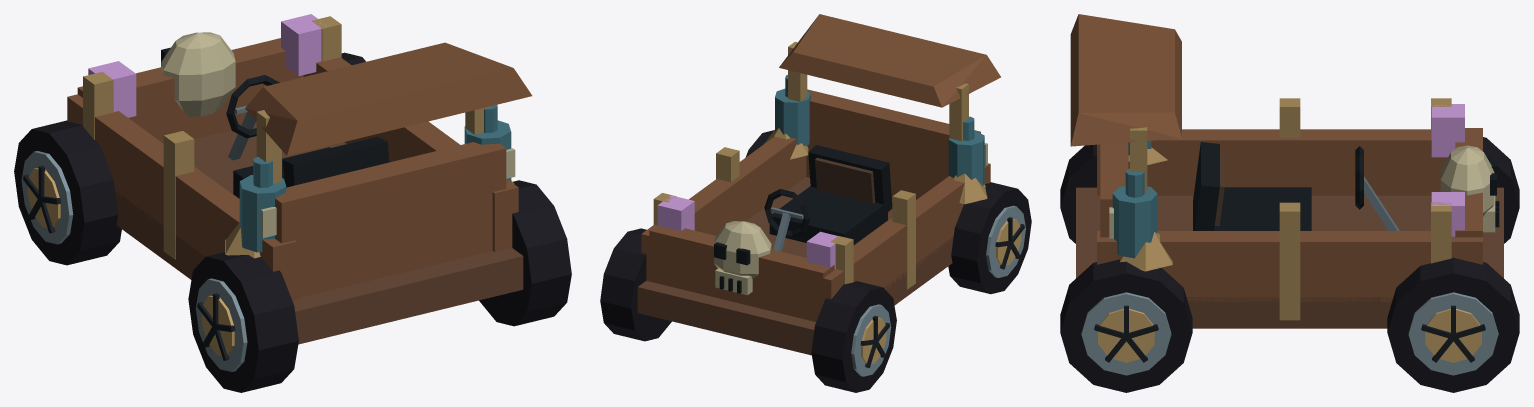
File: kart.glb
3 renders of one model, left to right at view 1: azimuth 30°, elevation 25°; view 2: azimuth 150°, elevation 25°; view 3: azimuth 270°, elevation 25°, orthographic. The views are drawn at different scales.
Parts seen in each view (by area): view 1: identity-carriage-carriage-timber-coach, wheel-rear-left, wheel-front-left, wheel-rear-right, identity-carriage-driver-cockpit, identity-carriage-motif-skull, identity-carriage-motif-bottles, identity-carriage-motif-gems; view 2: identity-carriage-carriage-timber-coach, identity-carriage-driver-cockpit, wheel-front-left, wheel-rear-left, wheel-front-right, identity-carriage-motif-bottles, identity-carriage-motif-skull, identity-carriage-motif-gems; view 3: identity-carriage-carriage-timber-coach, wheel-front-right, wheel-rear-right, identity-carriage-driver-cockpit, identity-carriage-motif-bottles, identity-carriage-motif-skull, wheel-rear-left, wheel-front-left, identity-carriage-motif-gems.
Part boxes in pixels (left/top/right/bottom): identity-carriage-carriage-timber-coach: left=67, top=14, right=532, bottom=344; wheel-rear-left: left=188, top=252, right=298, bottom=392; wheel-front-left: left=14, top=120, right=121, bottom=265; wheel-rear-right: left=479, top=180, right=571, bottom=326; identity-carriage-driver-cockpit: left=226, top=75, right=388, bottom=198; identity-carriage-motif-skull: left=161, top=32, right=235, bottom=116; identity-carriage-motif-bottles: left=239, top=105, right=515, bottom=252; identity-carriage-motif-gems: left=225, top=180, right=514, bottom=258; identity-carriage-carriage-timber-coach: left=637, top=14, right=1000, bottom=355; identity-carriage-driver-cockpit: left=764, top=145, right=892, bottom=251; wheel-front-left: left=811, top=281, right=896, bottom=392; wheel-rear-left: left=948, top=182, right=1031, bottom=294; wheel-front-right: left=600, top=228, right=671, bottom=341; identity-carriage-motif-bottles: left=775, top=75, right=987, bottom=186; identity-carriage-motif-skull: left=714, top=221, right=771, bottom=295; identity-carriage-motif-gems: left=764, top=128, right=987, bottom=204; identity-carriage-carriage-timber-coach: left=1070, top=14, right=1503, bottom=328; wheel-front-right: left=1387, top=257, right=1519, bottom=392; wheel-rear-right: left=1060, top=259, right=1192, bottom=392; identity-carriage-driver-cockpit: left=1193, top=142, right=1399, bottom=230; identity-carriage-motif-bottles: left=1109, top=141, right=1157, bottom=258; identity-carriage-motif-skull: left=1440, top=145, right=1499, bottom=232; wheel-rear-left: left=1060, top=144, right=1096, bottom=243; wheel-front-left: left=1483, top=137, right=1519, bottom=243; identity-carriage-motif-gems: left=1120, top=147, right=1172, bottom=271.
Bounding box in the file's own units: 2.07 × 1.63 × 2.64.
